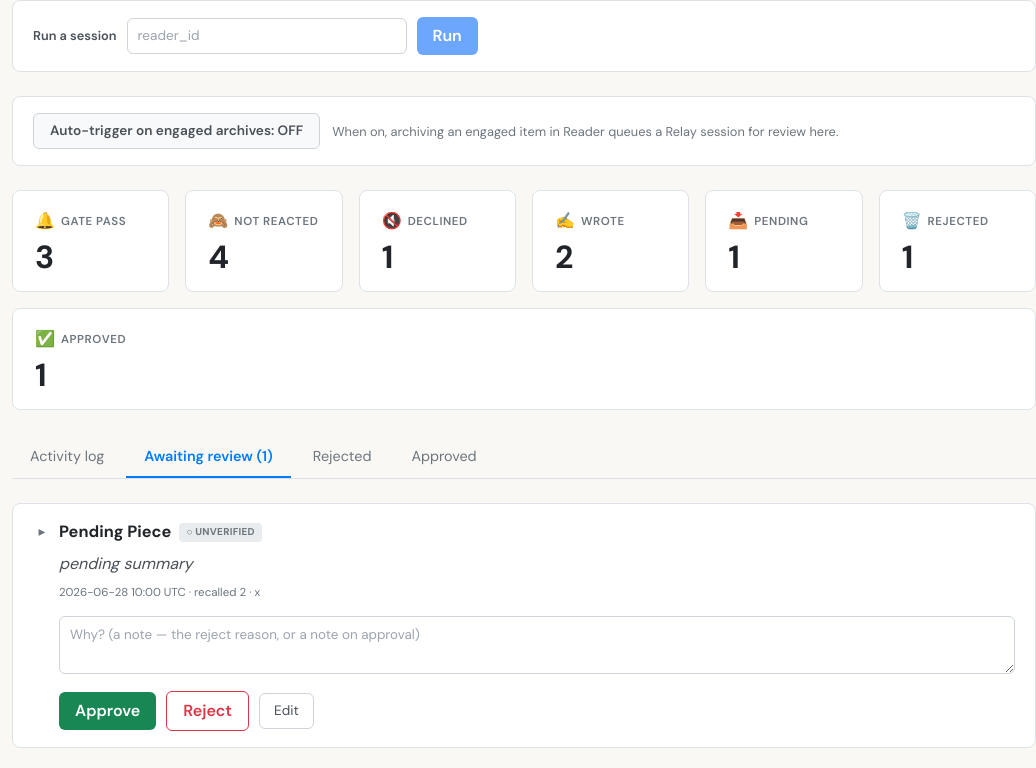
Scenario: RelayAgent › renders the widgets (incl. gate outcomes) and the activity log on its sub-tab
This screenshot has width=1036, height=768.
Expected: the text "Declined" is shown, [408,213,468,230]
Expected: the text "Wrote" is shown, [581,213,625,230]
What coordinates should you click on to do the following:
click the tab "Activity log"
I would click on:
 (67, 458)
Its box is [12,438,122,478].
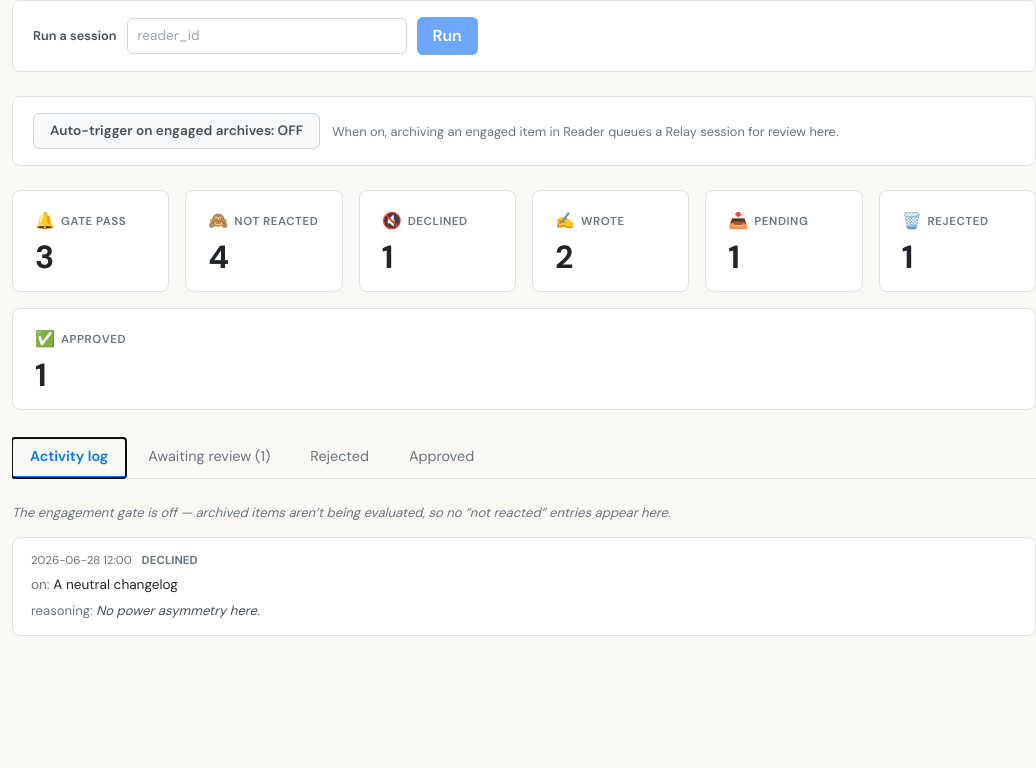
Result: the text "reasoning: No power asymmetry here." is shown at [31,602,260,619]
Result: the text "on: A neutral changelog" is shown at [31,576,178,593]
